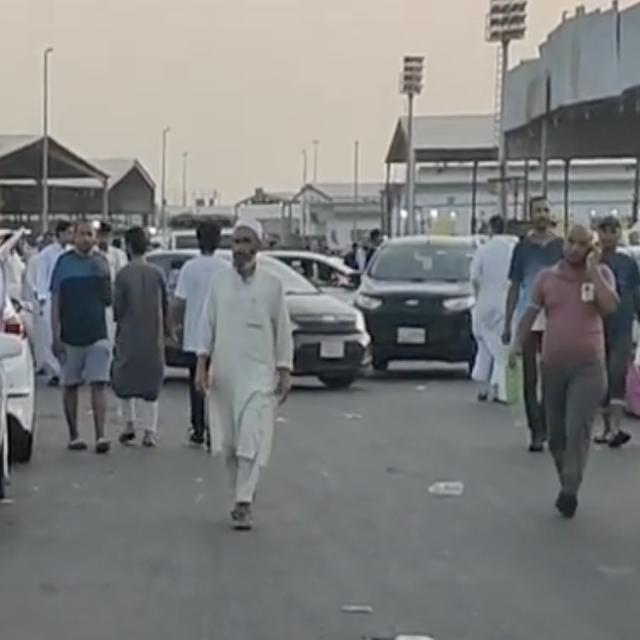license_plate: (395, 327, 426, 345), (320, 340, 344, 359)
